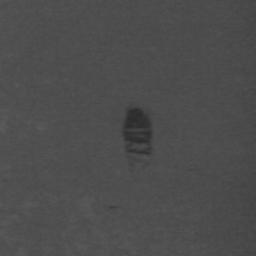Secondary rust skin: (123, 106, 152, 171)
